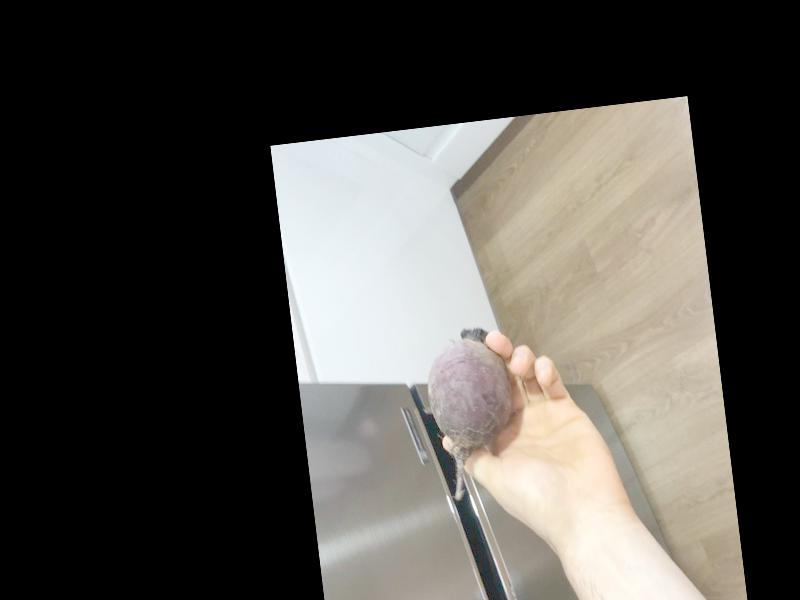Beet: (422, 323, 521, 499)
